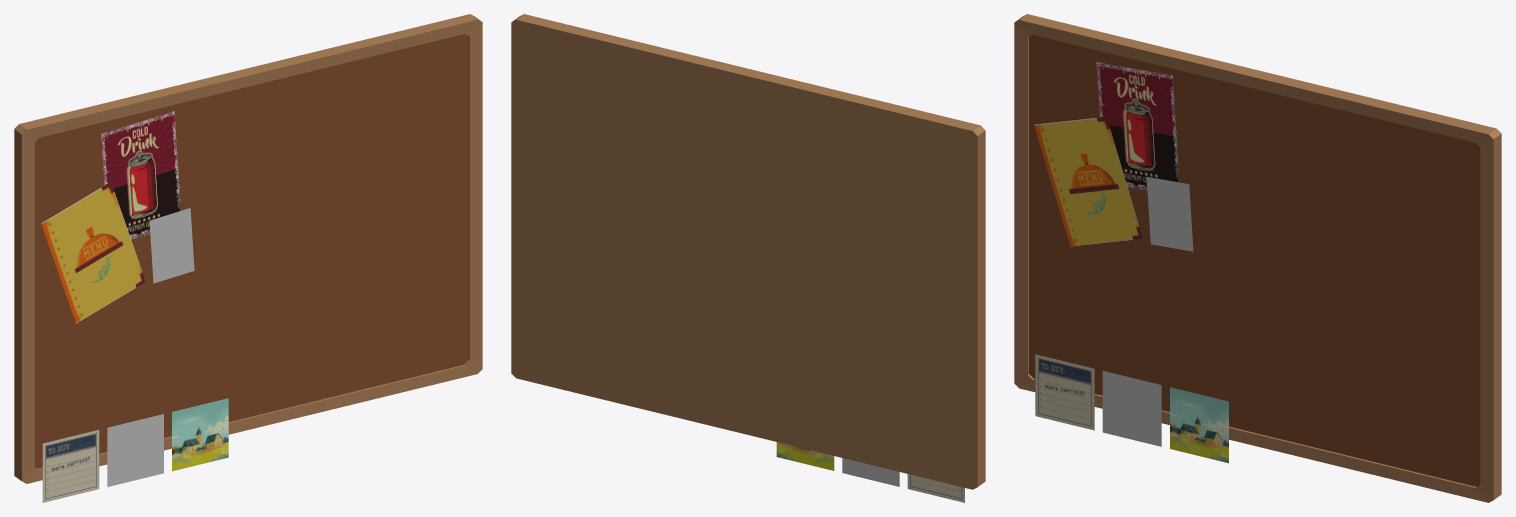
File: Postboard_rightside.fbx
3 views of the same model, side by side, from view 1: azimuth 30°, elevation 25°; view 2: azimuth 150°, elevation 25°; view 3: azimuth 330°, elevation 25° (orthographic). The views are drawn at different scales.
Visible parts, largest first — view 1: Postboard right; view 2: Postboard right; view 3: Postboard right.
Boxes of the visible parts, left/top/right/bottom form: Postboard right: left=14, top=14, right=482, bottom=502; Postboard right: left=511, top=14, right=985, bottom=502; Postboard right: left=1014, top=14, right=1501, bottom=502.
Bounding box in the file's own units: 233 × 182 × 6.95.
